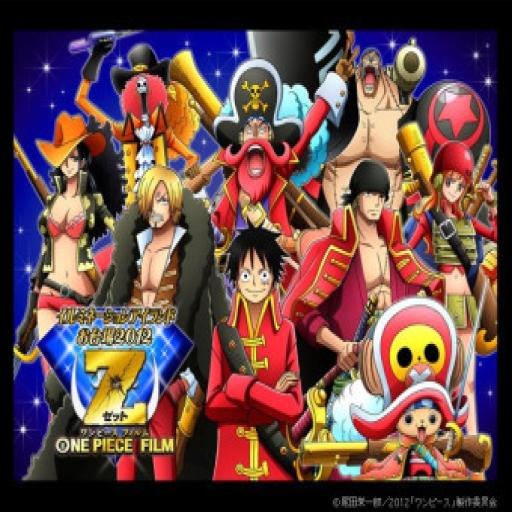Luffy: (220, 220, 297, 310)
Nami: (420, 142, 479, 233)
NicoRobin: (34, 97, 110, 209)
Usopp: (216, 97, 294, 210)
Zoro: (339, 150, 398, 240)
sanji: (133, 154, 189, 239)
